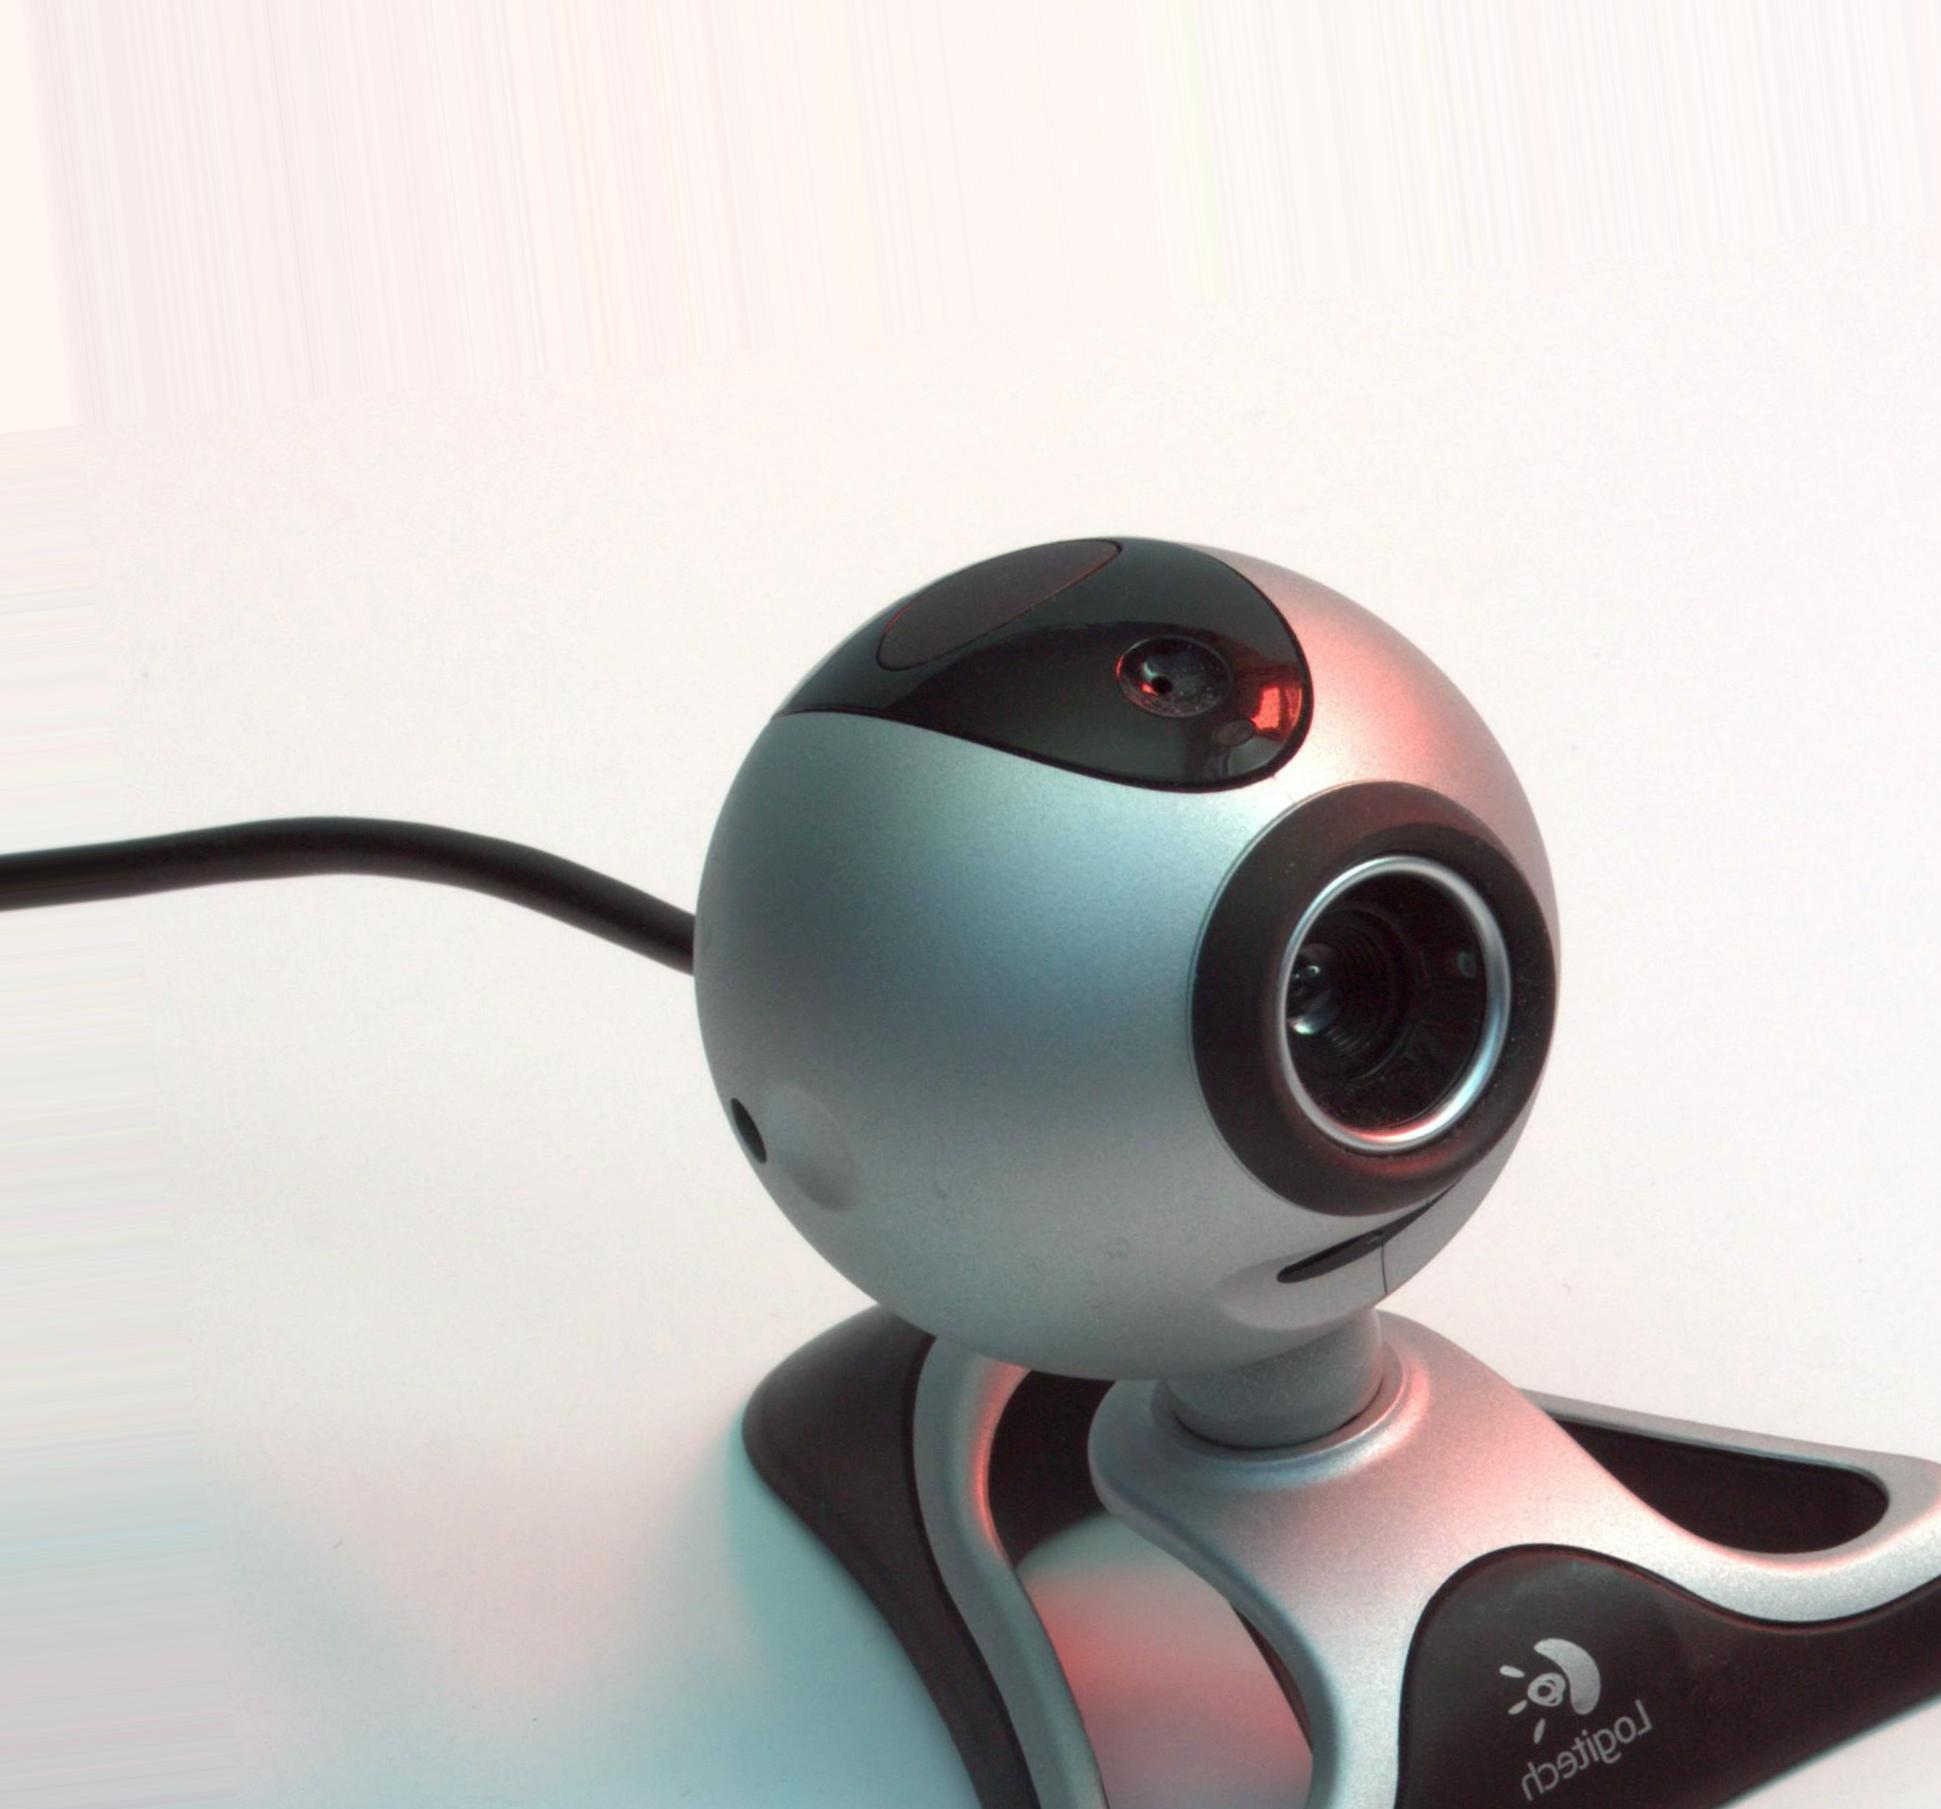webcam: (648, 502, 1608, 1415)
